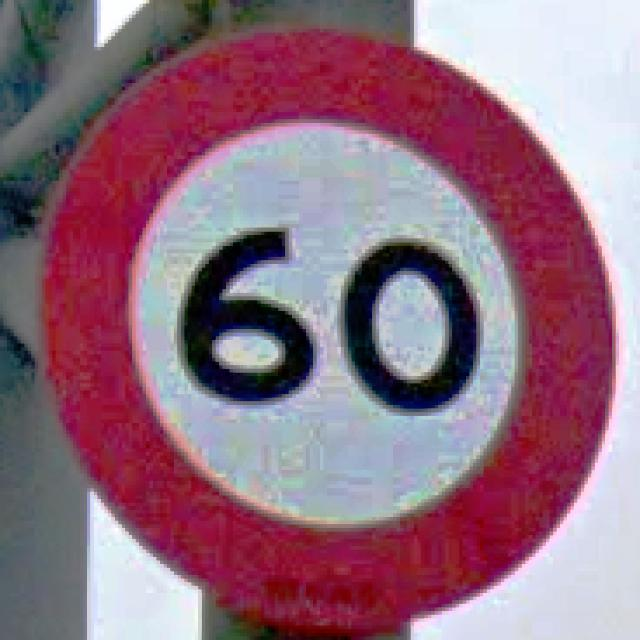max60: (31, 18, 619, 629)
